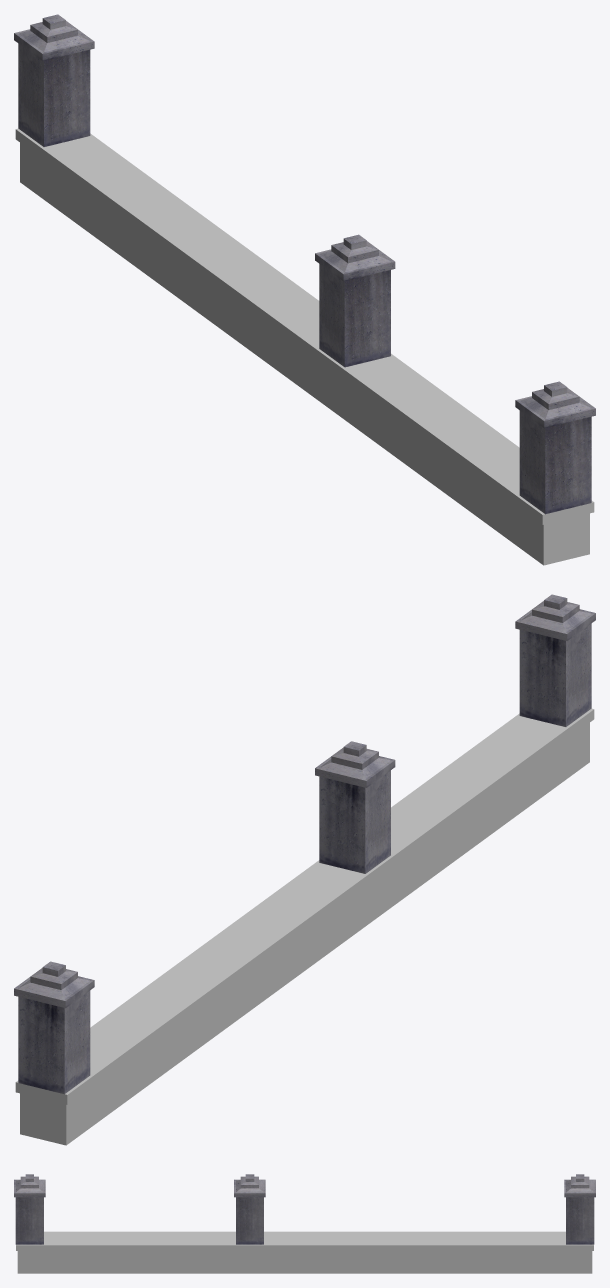
File: baseSB.FBX
The picture shows the model from 3 angles, top to bottom: view 1: azimuth 30°, elevation 25°; view 2: azimuth 150°, elevation 25°; view 3: azimuth 270°, elevation 25°; orthographic projection. The views are drawn at different scales.
Parts seen in each view (by area): view 1: Box37, Box1343, Box1341, Box1342; view 2: Box37, Box1341, Box1343, Box1342; view 3: Box37, Box1341, Box1343, Box1342.
Part boxes in pixels (bbox=[...]): Box37: bbox=[15, 128, 594, 565]; Box1343: bbox=[14, 14, 94, 146]; Box1341: bbox=[515, 381, 595, 514]; Box1342: bbox=[315, 234, 395, 367]; Box37: bbox=[15, 708, 594, 1145]; Box1341: bbox=[515, 594, 595, 726]; Box1343: bbox=[14, 961, 94, 1094]; Box1342: bbox=[315, 741, 395, 873]; Box37: bbox=[16, 1231, 593, 1273]; Box1341: bbox=[14, 1174, 45, 1244]; Box1343: bbox=[564, 1174, 595, 1244]; Box1342: bbox=[234, 1174, 265, 1244].
Bounding box in the file's own units: 26.83 × 82 × 476.
